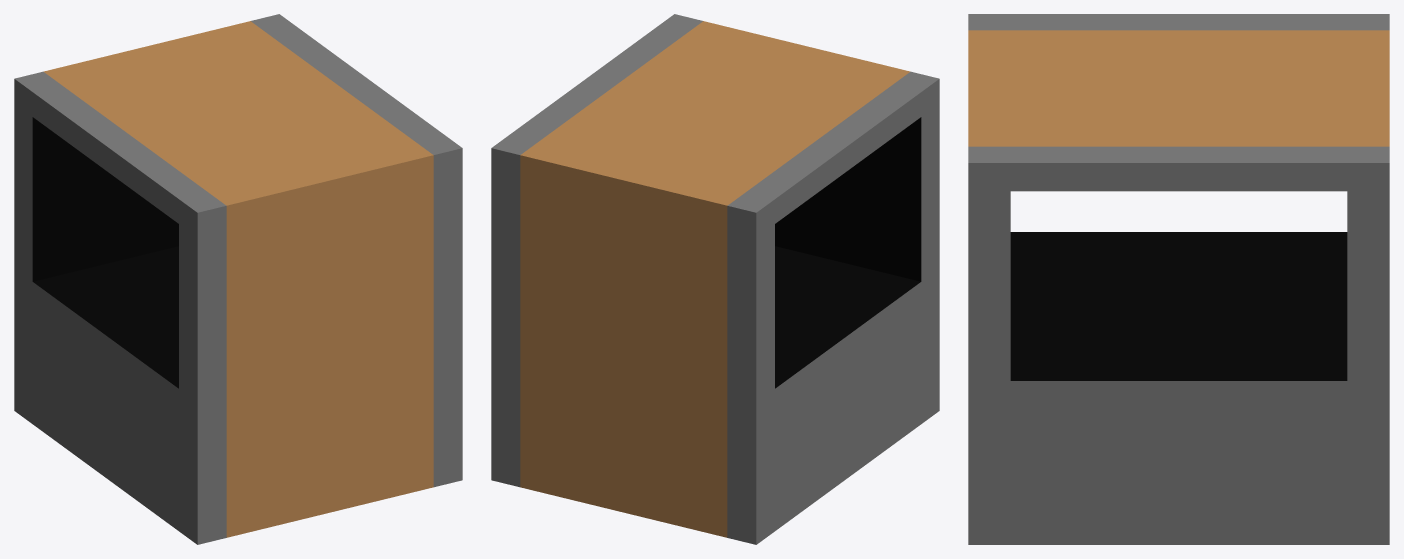
The model's file is smelter.gltf.
The picture shows the model from 3 angles, left to right: view 1: azimuth 30°, elevation 25°; view 2: azimuth 150°, elevation 25°; view 3: azimuth 270°, elevation 25°; orthographic projection. The views are drawn at different scales.
Visible parts, largest first — view 1: Cube; view 2: Cube; view 3: Cube.
Boxes of the visible parts, x1,y1,x2,y2 form: Cube: (14, 14, 462, 544); Cube: (491, 14, 939, 544); Cube: (968, 14, 1389, 544).
Bounding box in the file's own units: 1.67 × 2 × 2.
